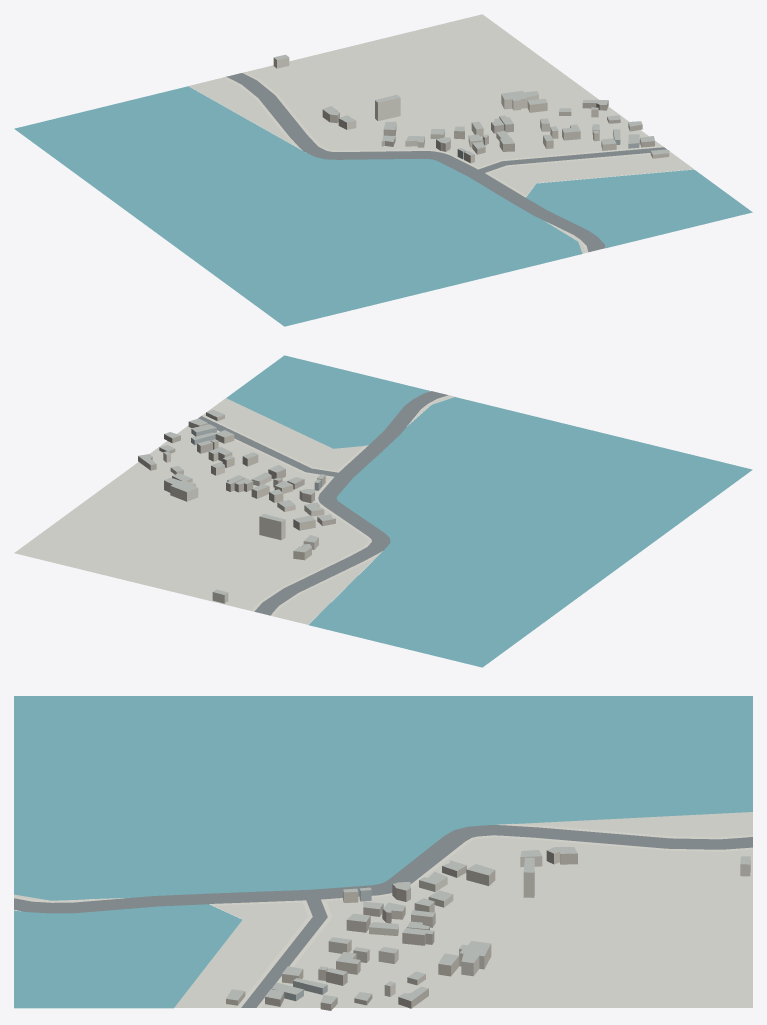
The picture shows the model from 3 angles, top to bottom: view 1: azimuth 30°, elevation 25°; view 2: azimuth 150°, elevation 25°; view 3: azimuth 270°, elevation 25°; orthographic projection. The views are drawn at different scales.
Parts seen in each view (by area): view 1: city; view 2: city; view 3: city.
Boxes of the visible parts, left/top/right/bottom form: city: left=14, top=14, right=752, bottom=326; city: left=14, top=355, right=752, bottom=667; city: left=14, top=696, right=752, bottom=1010.
Size of the model in its own units: 505 by 18.98 by 500.
